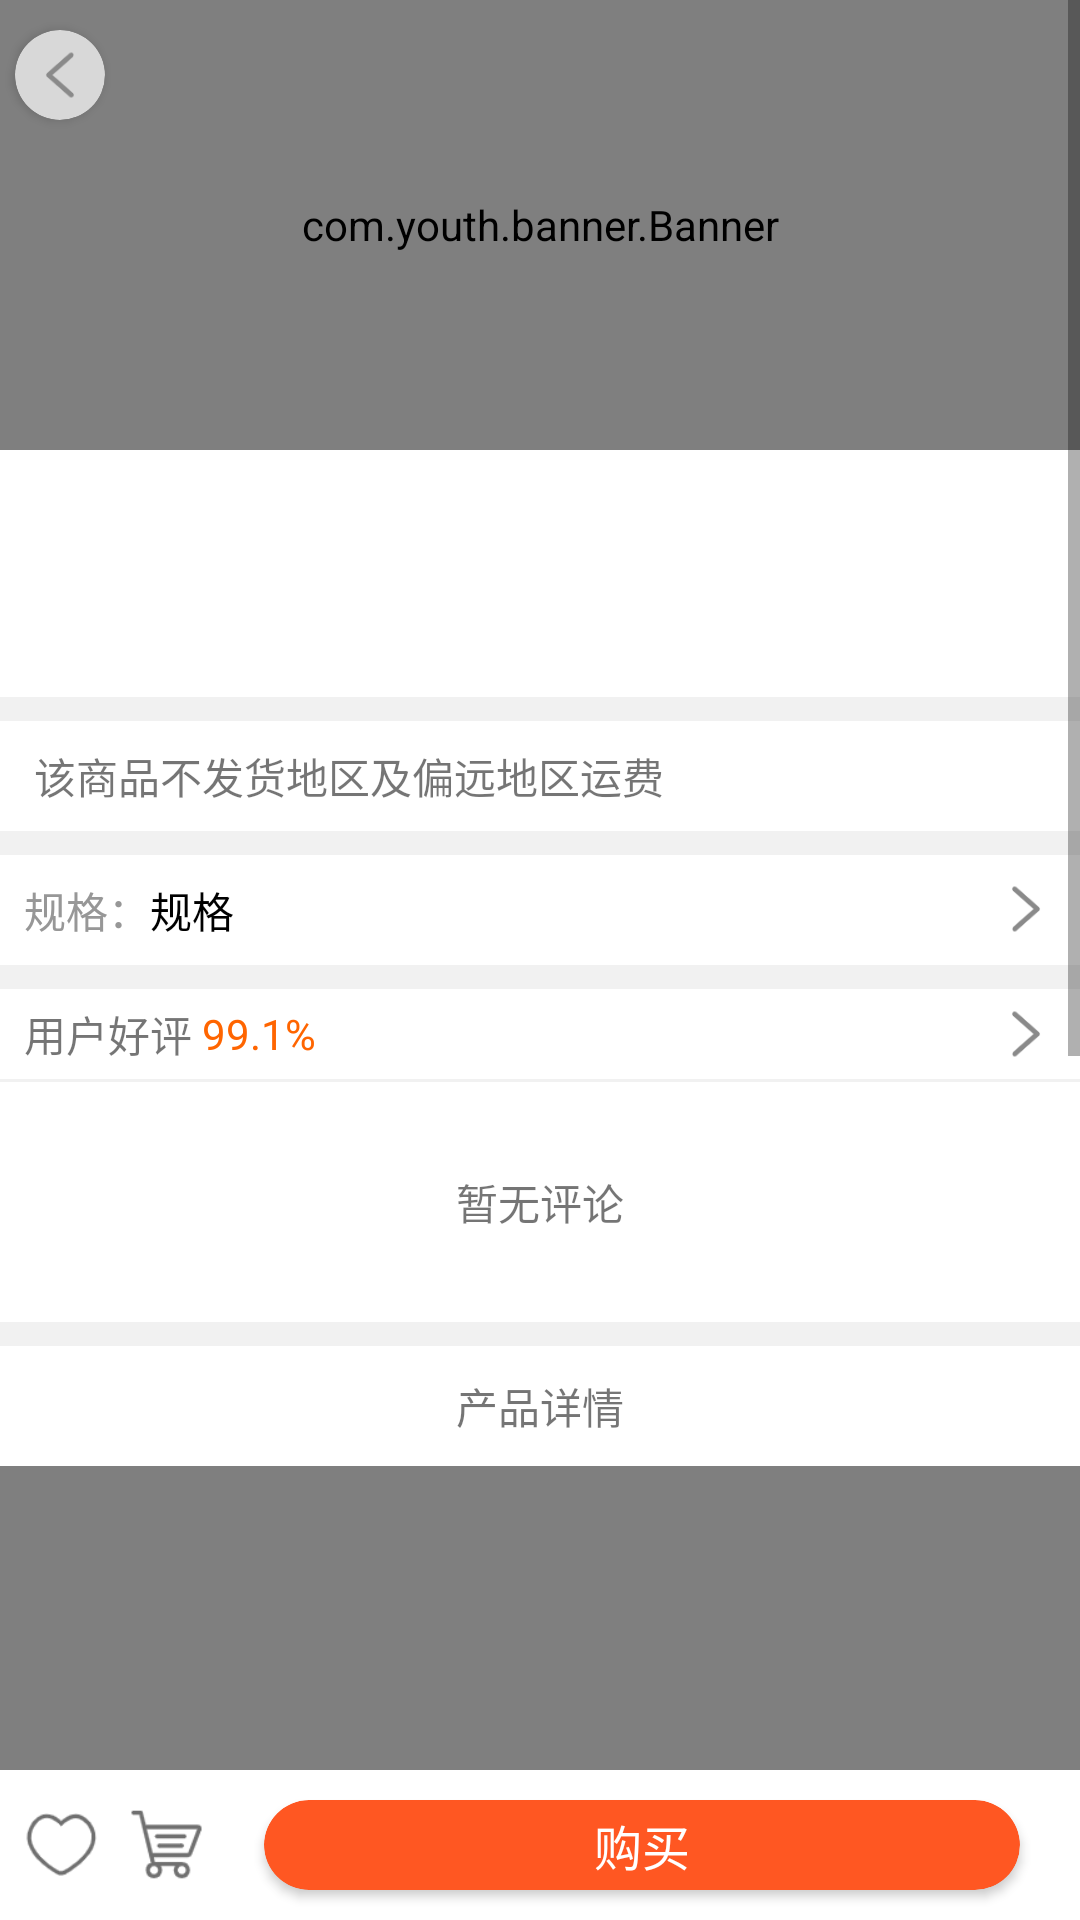

Point at icon controls on the screen. Image size 1080px×1920px, points as (x=x, y=y).
arrow left: (x=60, y=75)
arrow right: (x=1026, y=909), (x=1026, y=1034)
goods not like: (x=61, y=1845)
goods shop car: (x=166, y=1844)
